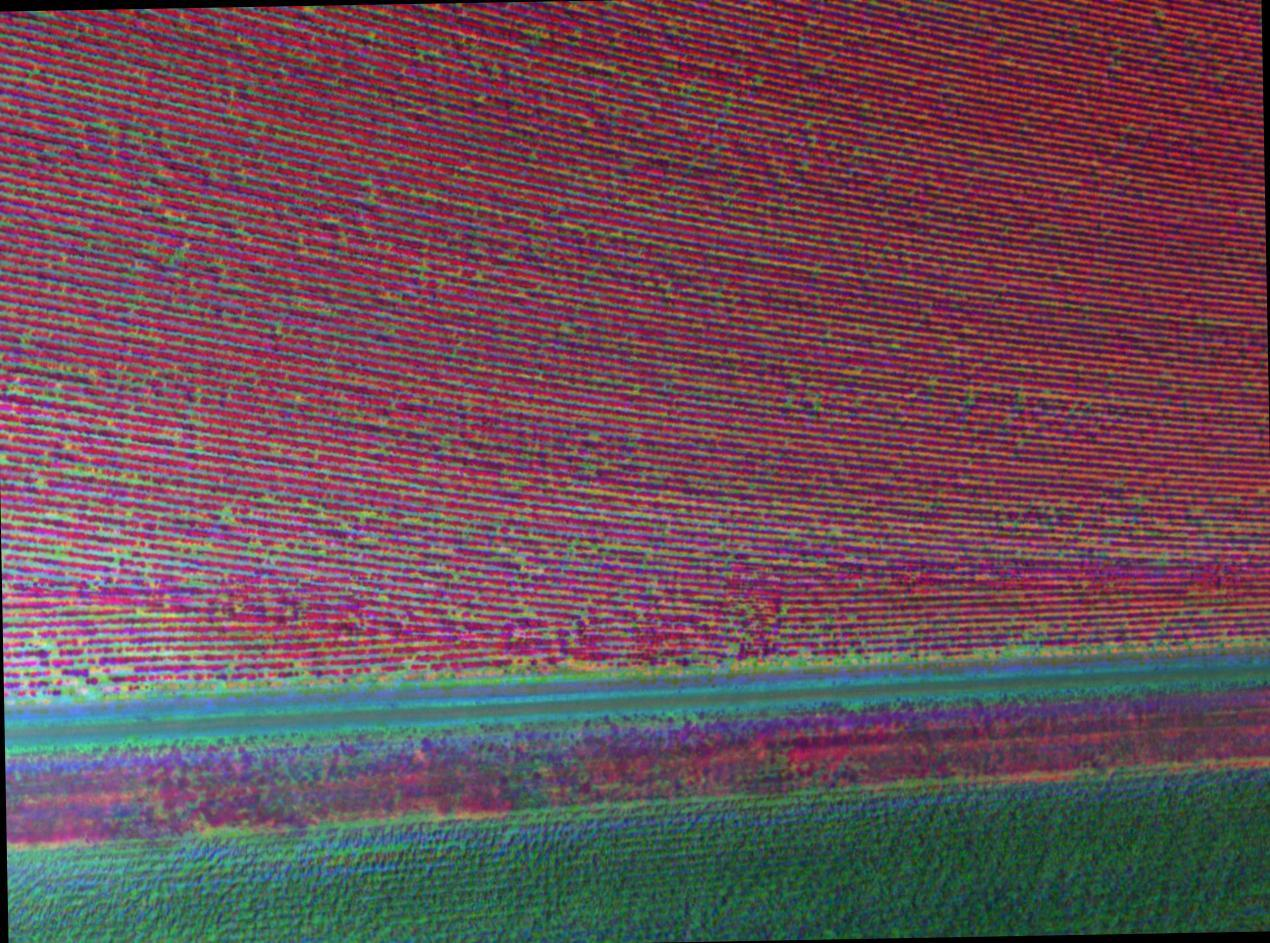dc: (296, 665, 302, 671), (524, 611, 530, 616), (360, 513, 365, 518), (238, 230, 243, 234), (74, 471, 78, 475), (501, 550, 505, 554), (563, 323, 567, 326), (592, 545, 596, 548), (784, 607, 787, 611)
